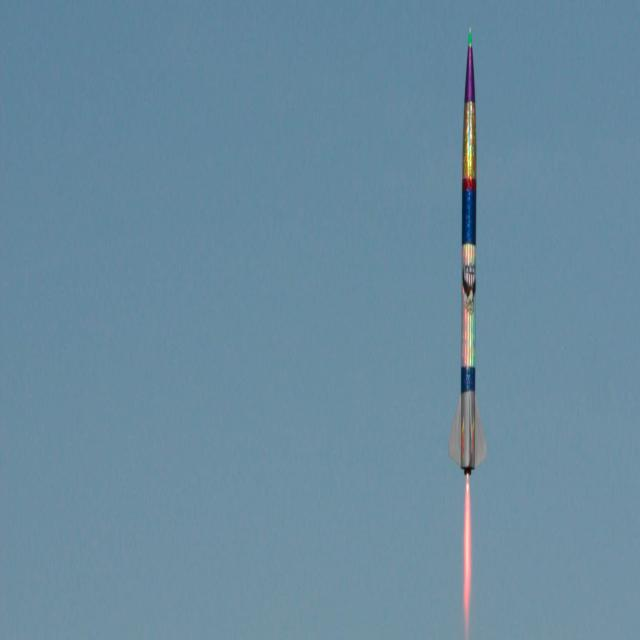Rocket: (447, 24, 489, 478)
